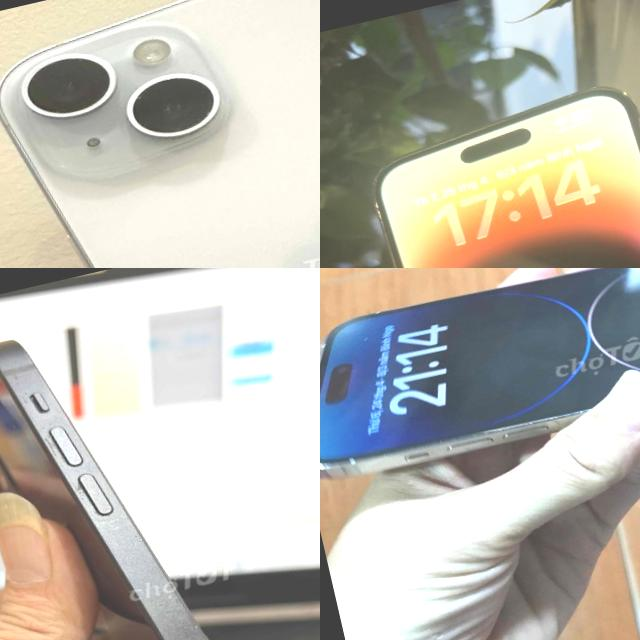scratch: (0, 339, 145, 563), (121, 62, 223, 146)
